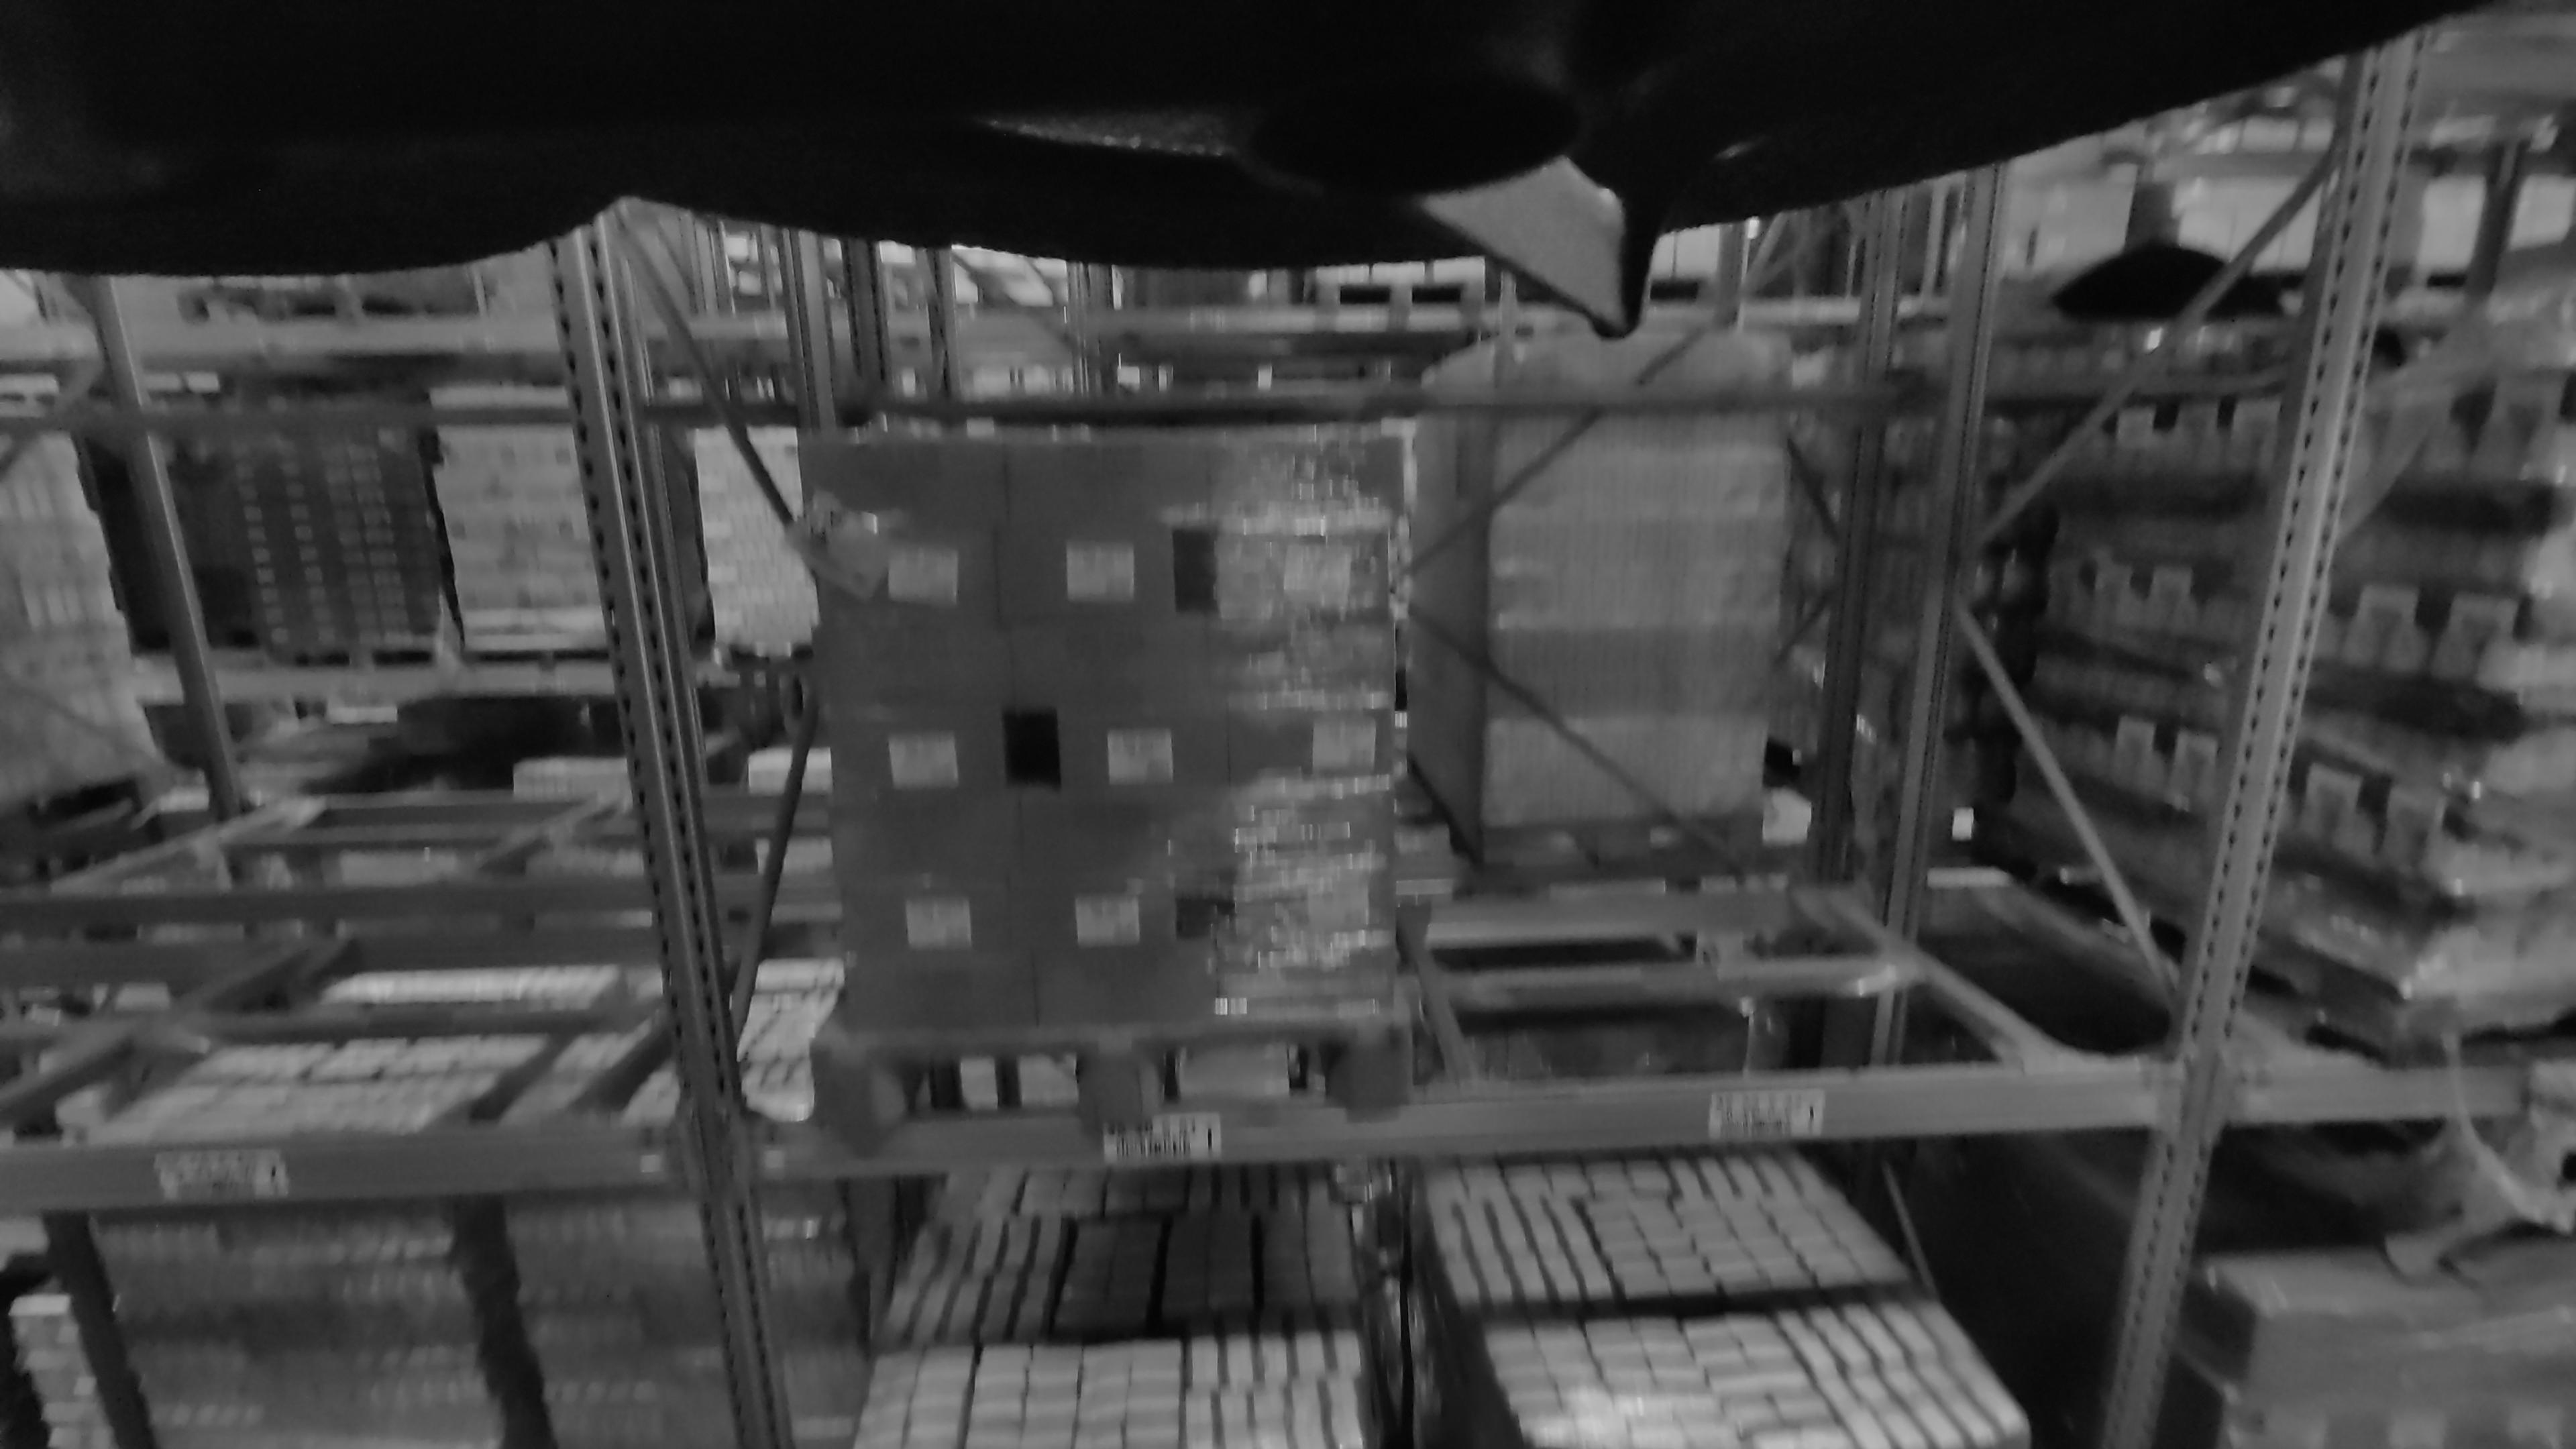empty-shelf: (92, 248, 678, 1109), (1433, 290, 2042, 1056), (53, 269, 481, 872), (736, 269, 816, 867)
